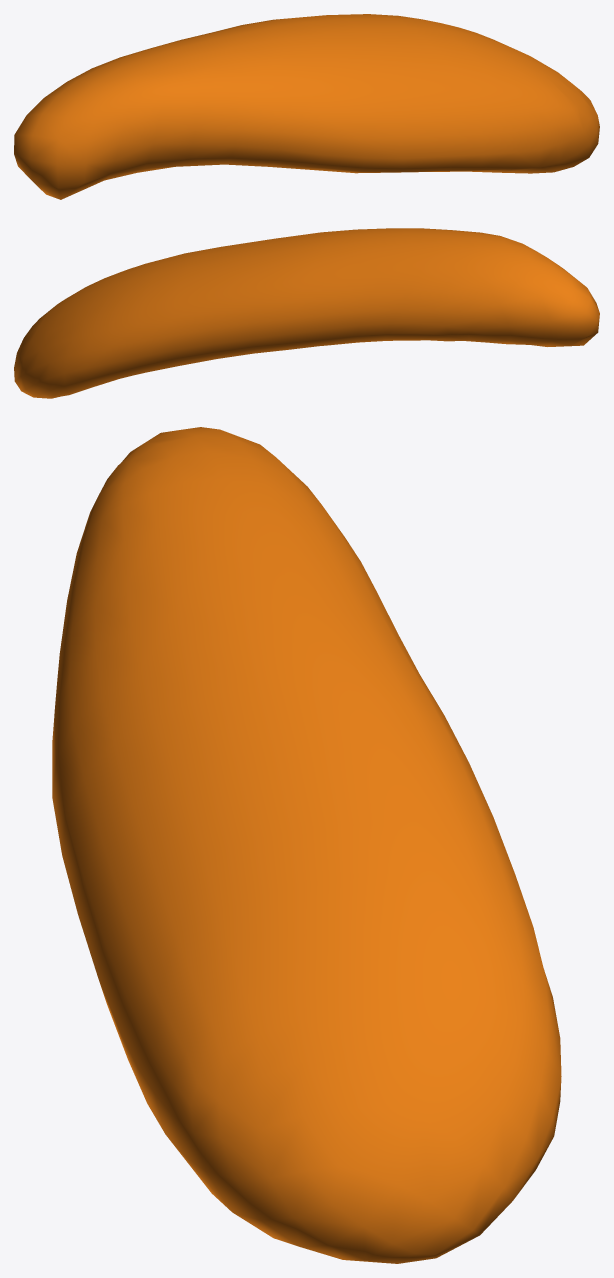
The model's file is alaDerecha.obj.
The picture shows the model from 3 angles, top to bottom: view 1: azimuth 30°, elevation 25°; view 2: azimuth 150°, elevation 25°; view 3: azimuth 270°, elevation 25°; orthographic projection. The views are drawn at different scales.
Visible parts, largest first — view 1: Ala1; view 2: Ala1; view 3: Ala1.
Part boxes in pixels (left/top/right/bottom): Ala1: left=14, top=14, right=599, bottom=199; Ala1: left=14, top=228, right=599, bottom=398; Ala1: left=52, top=427, right=561, bottom=1263.
Size of the model in its own units: 0.1012 by 0.0369 by 0.0419.
